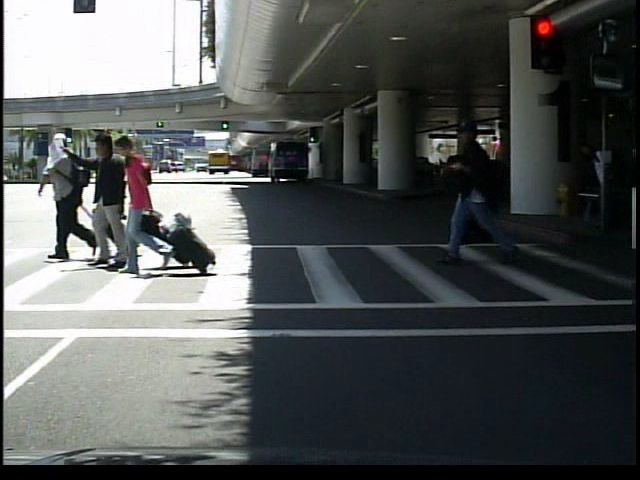person: (442, 113, 519, 265)
